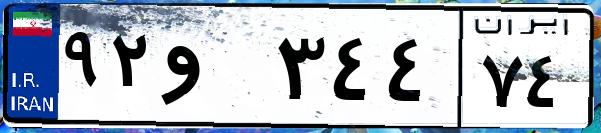2: (110, 28, 158, 98)
3: (270, 28, 330, 110)
4: (385, 28, 445, 110), (330, 28, 385, 110), (525, 38, 570, 115)
7: (475, 38, 525, 113)
9: (57, 26, 110, 100)
و: (158, 20, 270, 120)
